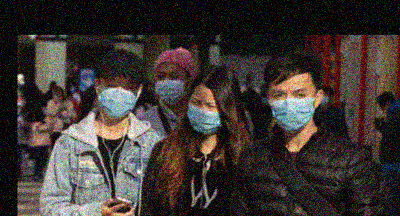with_mask: (267, 84, 318, 133), (96, 73, 135, 118), (185, 94, 223, 135), (153, 68, 187, 103)
